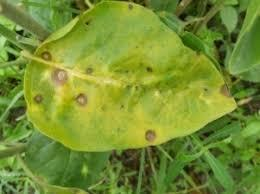leaf_spot: (8, 13, 244, 157)
